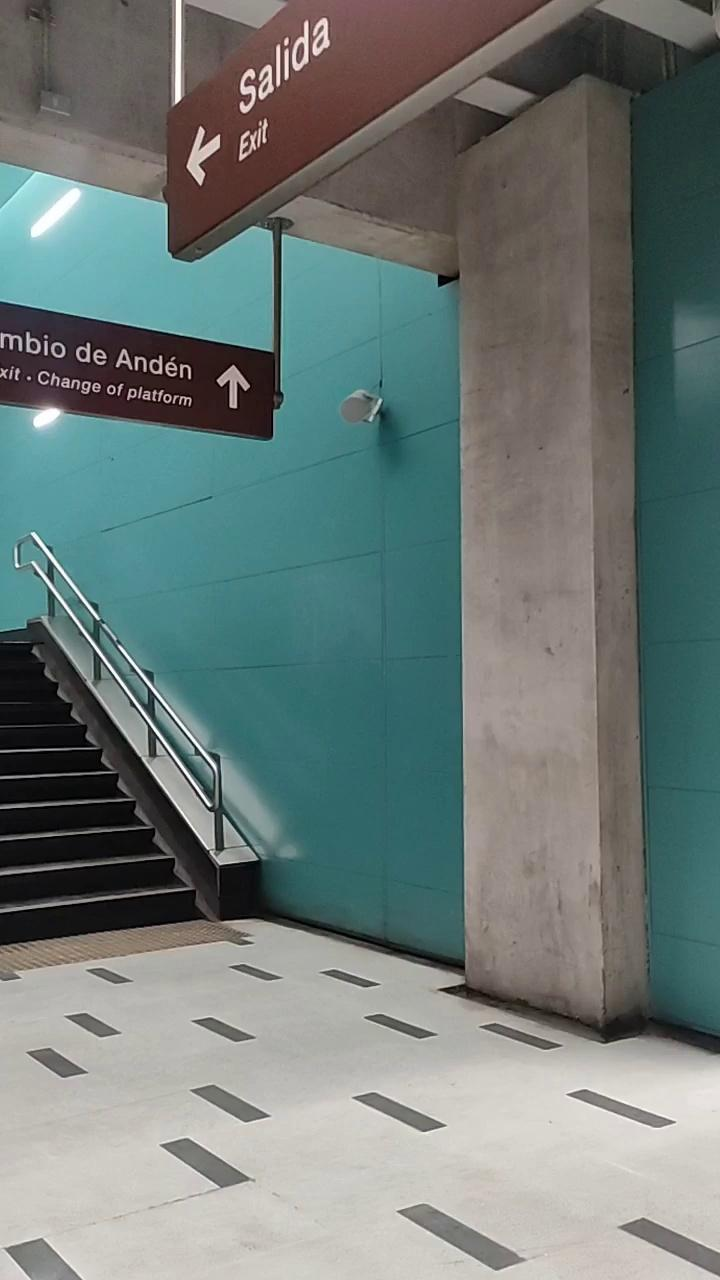left arrow: (175, 100, 229, 210)
up arrow: (199, 353, 264, 425)
